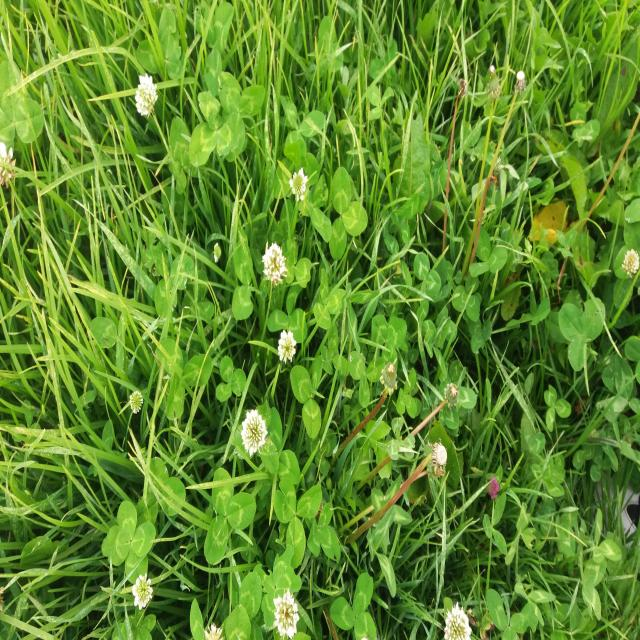Four Leaf Clover: (101, 501, 155, 585), (270, 138, 320, 199)
